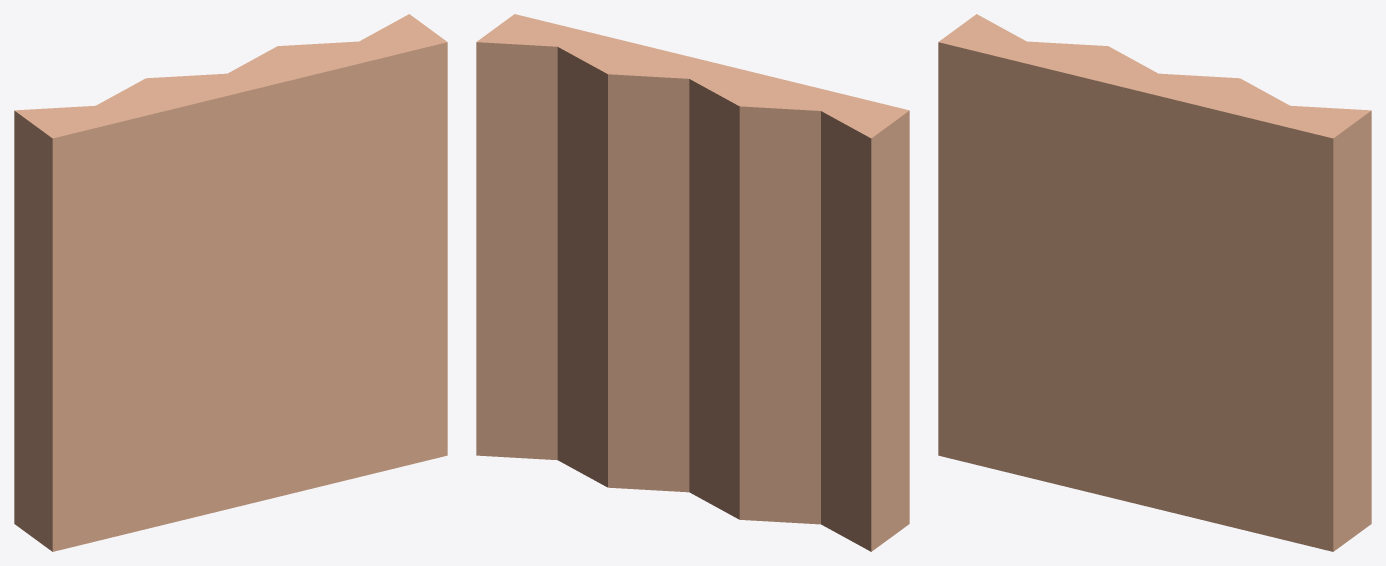
File: cliff_rock.glb
The picture shows the model from 3 angles, left to right: view 1: azimuth 30°, elevation 25°; view 2: azimuth 150°, elevation 25°; view 3: azimuth 330°, elevation 25°; orthographic projection.
Visible parts, largest first — view 1: cliff_rock; view 2: cliff_rock; view 3: cliff_rock.
Boxes of the visible parts, left/top/right/bottom form: cliff_rock: left=14, top=14, right=447, bottom=551; cliff_rock: left=476, top=14, right=909, bottom=551; cliff_rock: left=938, top=14, right=1371, bottom=551.
Size of the model in its own units: 1 by 1 by 0.1685.
